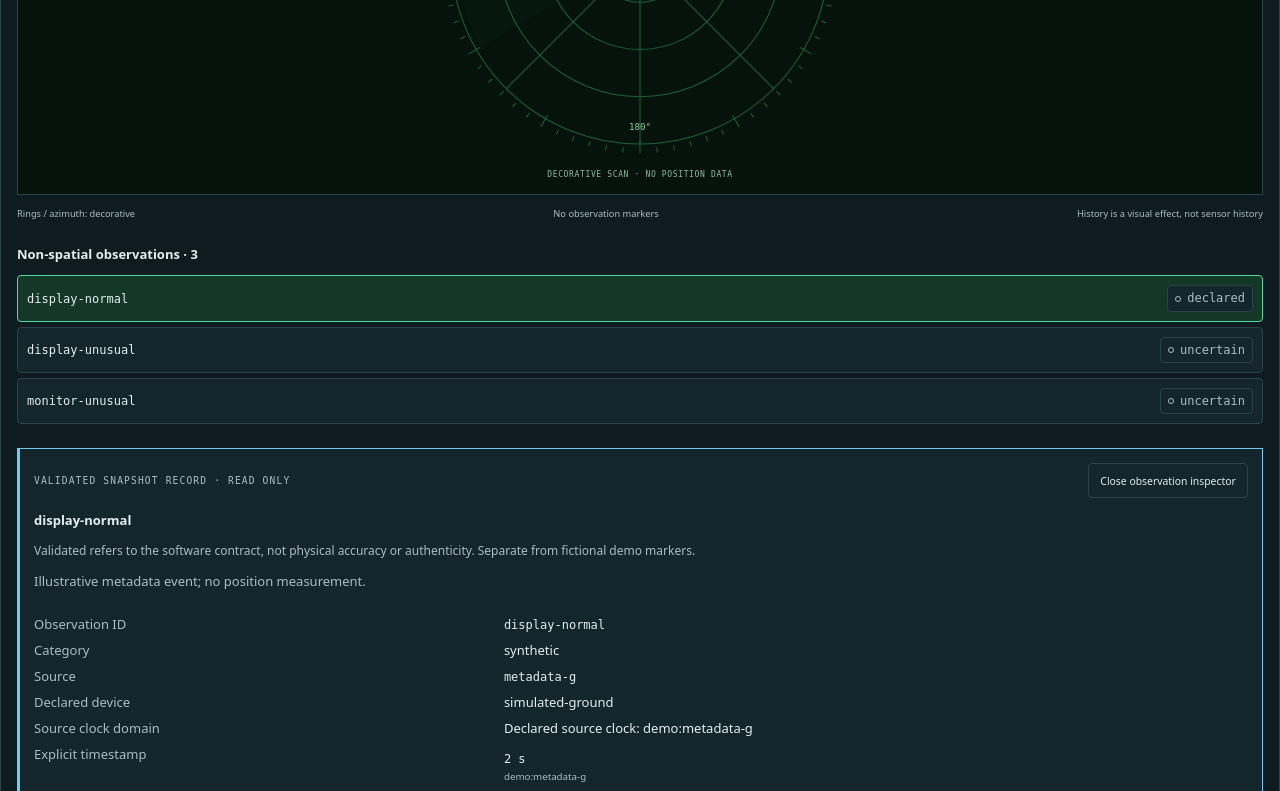
keeps the radar decorative and observations non-spatial
(page scrolled)
Check: the text "No observation markers" is shown, box [553,207,659,220]
Click the button "monitor-unusual uncertain" at point(81, 401), box [17,378,1263,424]
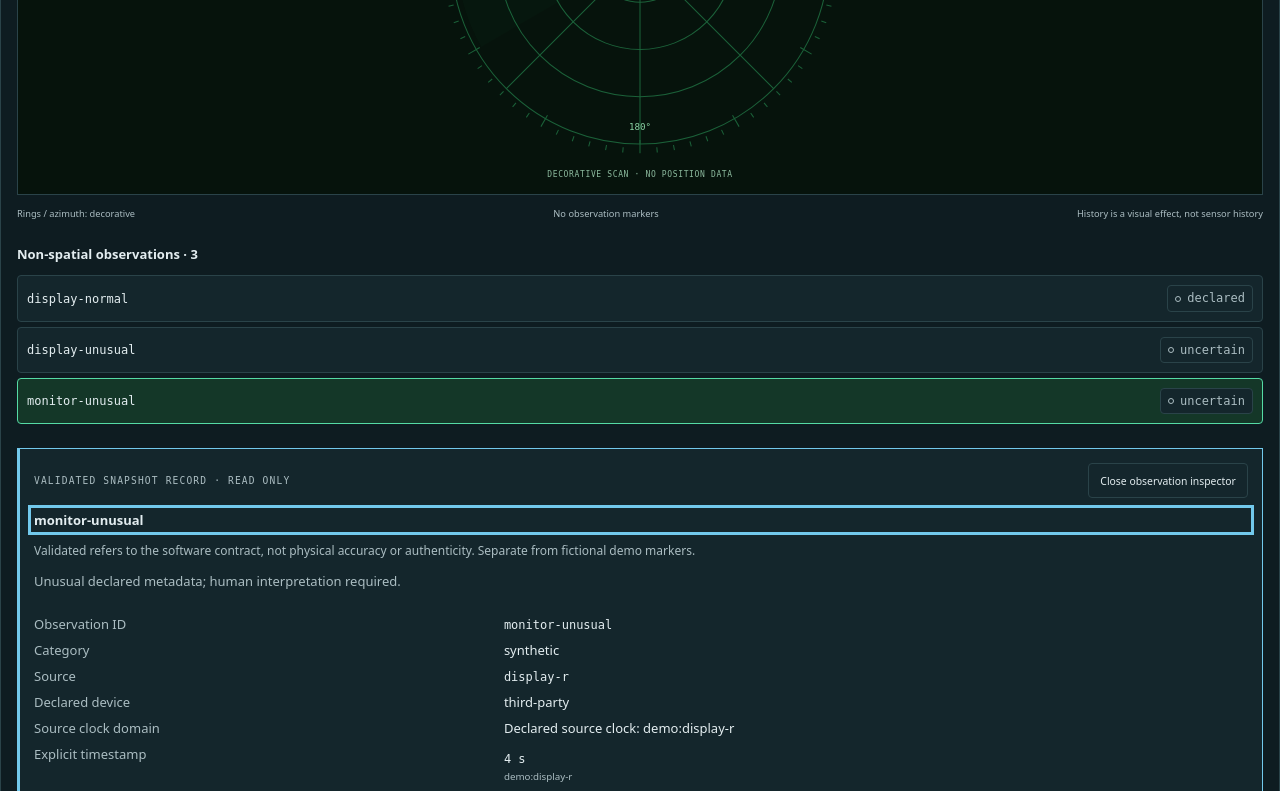
Check: the text "demo:display-r" is shown, box [504,770,572,783]
